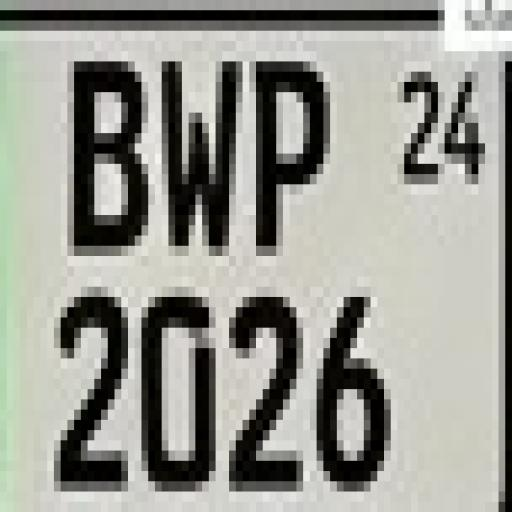0: (136, 293, 222, 500)
2: (56, 284, 131, 496), (230, 296, 306, 496)
6: (318, 289, 394, 501)
B: (66, 55, 154, 263)
P: (251, 52, 327, 267)
W: (160, 56, 242, 266)
